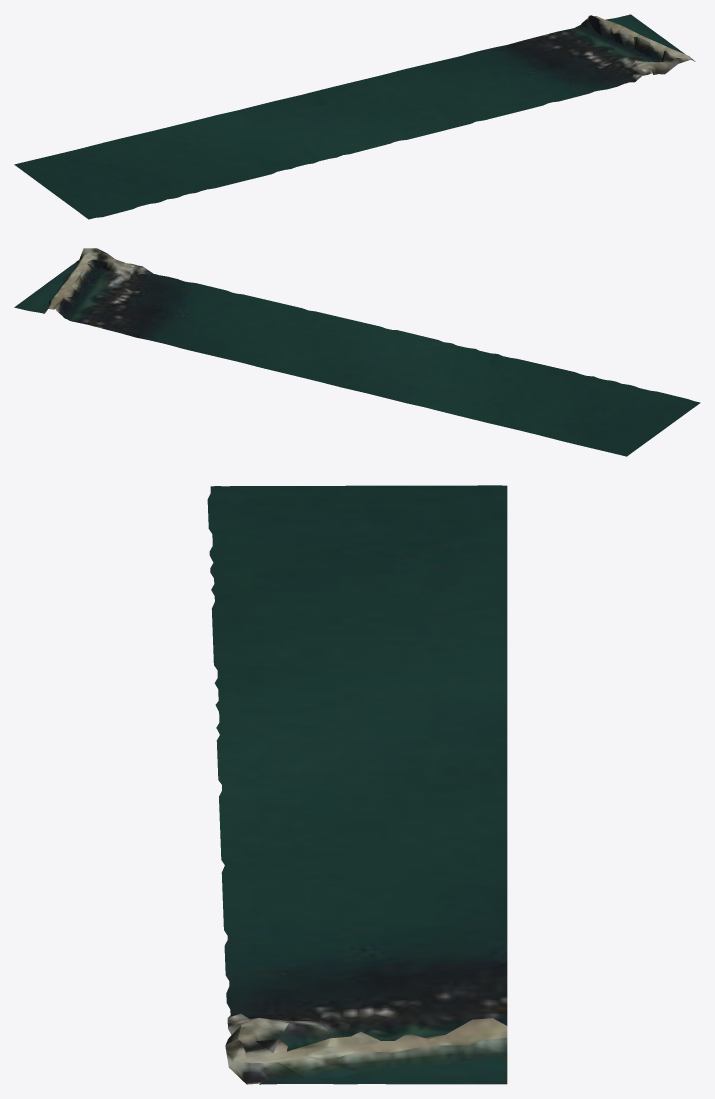
3 views of the same model, one above another, from view 1: azimuth 30°, elevation 25°; view 2: azimuth 150°, elevation 25°; view 3: azimuth 270°, elevation 25° (orthographic). The views are drawn at different scales.
Bounding box in the file's own units: 418 × 8.29 × 88.49.
Materials: 1 (1 with a texture image).
